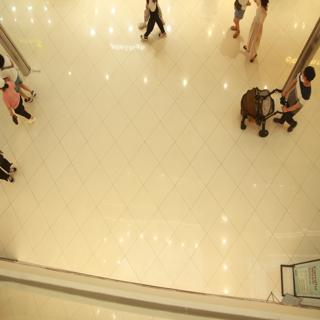person: (280, 49, 320, 126), (233, 1, 271, 70)
